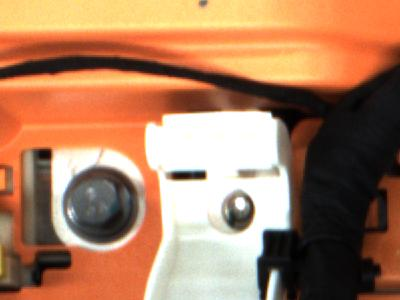nut_b: (59, 168, 145, 244)
